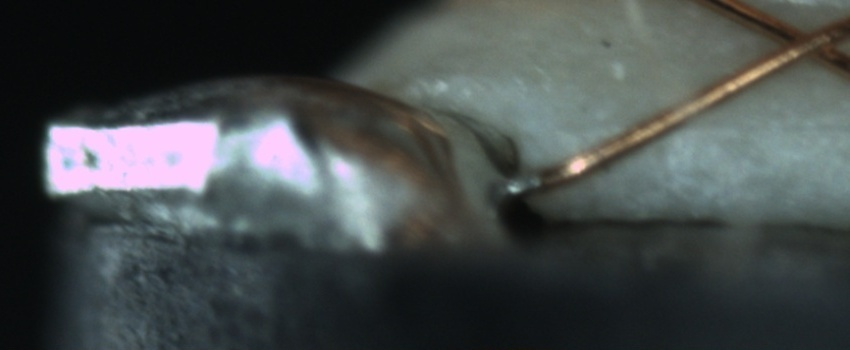CL: (754, 8, 846, 75)
DL: (561, 97, 840, 157)
TS: (499, 169, 542, 199)
